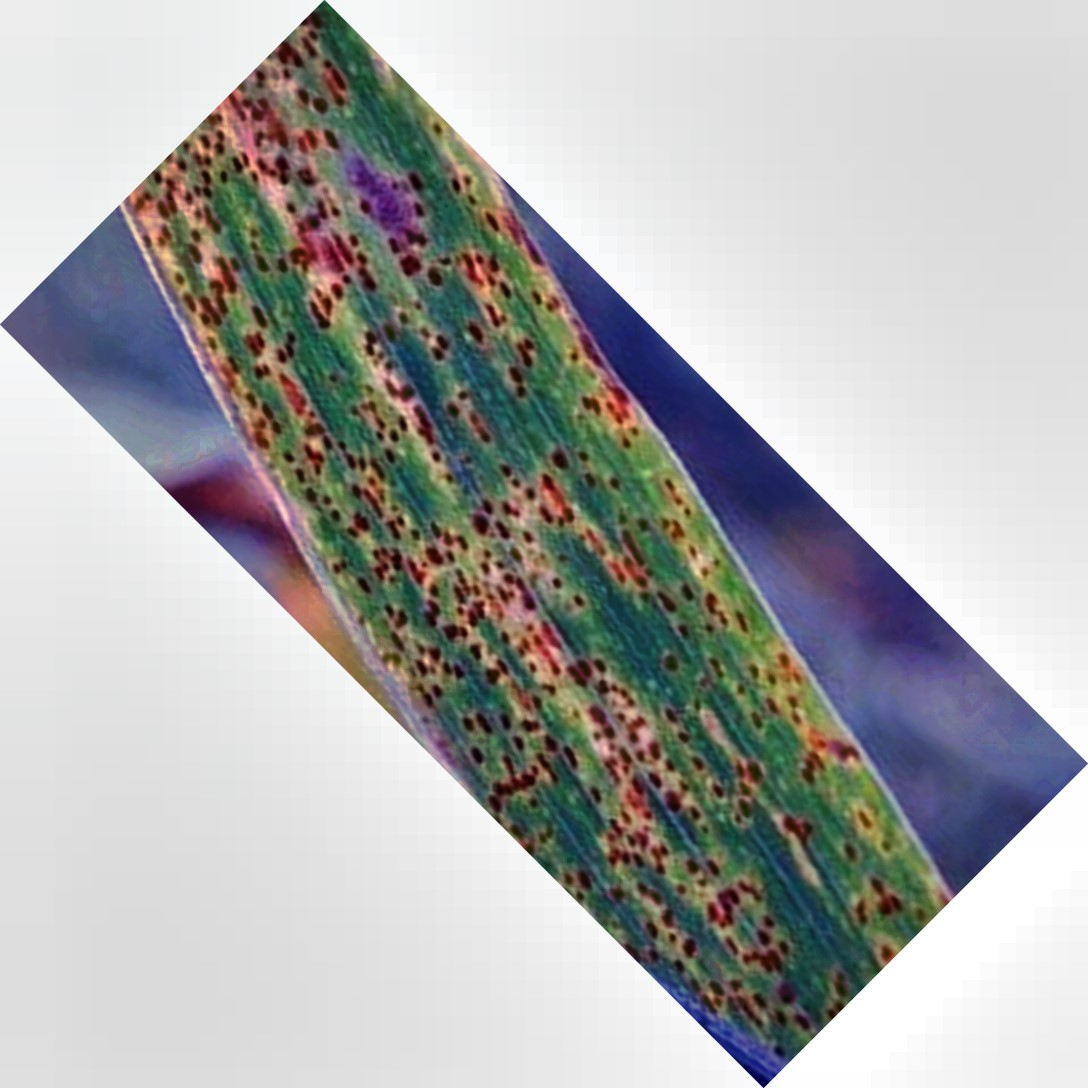Leaf Rust: (210, 173, 880, 988)
